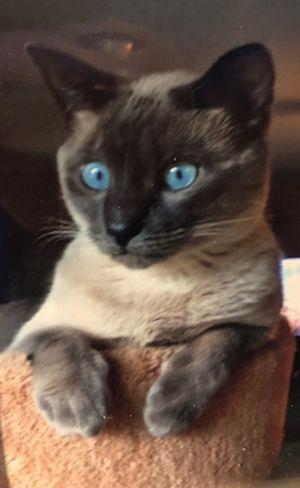siamese: (25, 18, 287, 284)
